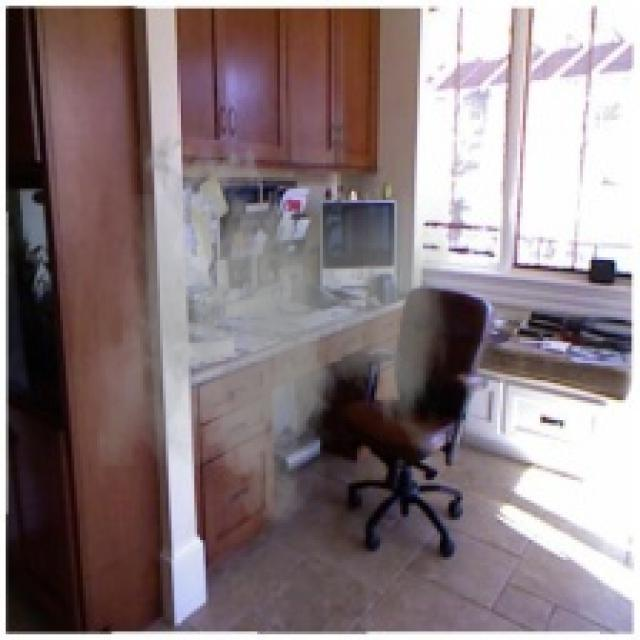Smoke: (97, 120, 452, 540)
